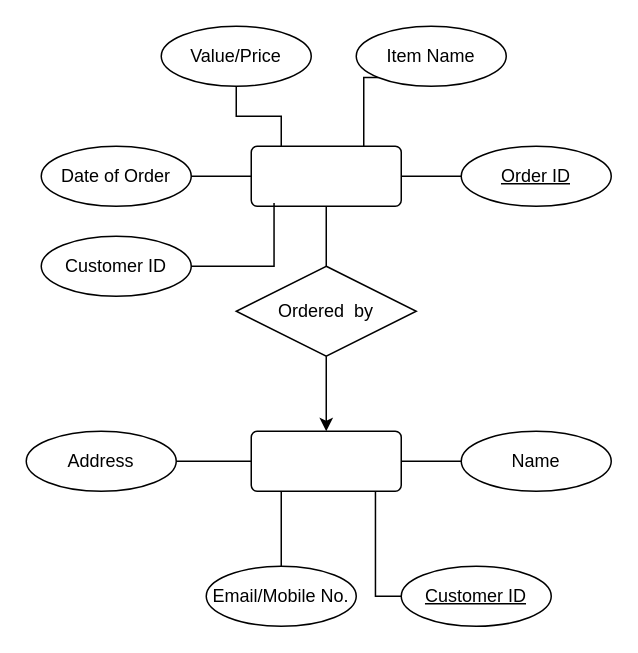
Image size: 638x653. Some labels were removed from this diagram. The shapes that lost their labels are listed below. From the top down, each one's centre as x and y in pixels, then its label:
At (325,175): "Order".
At (325,460): "Customers".
